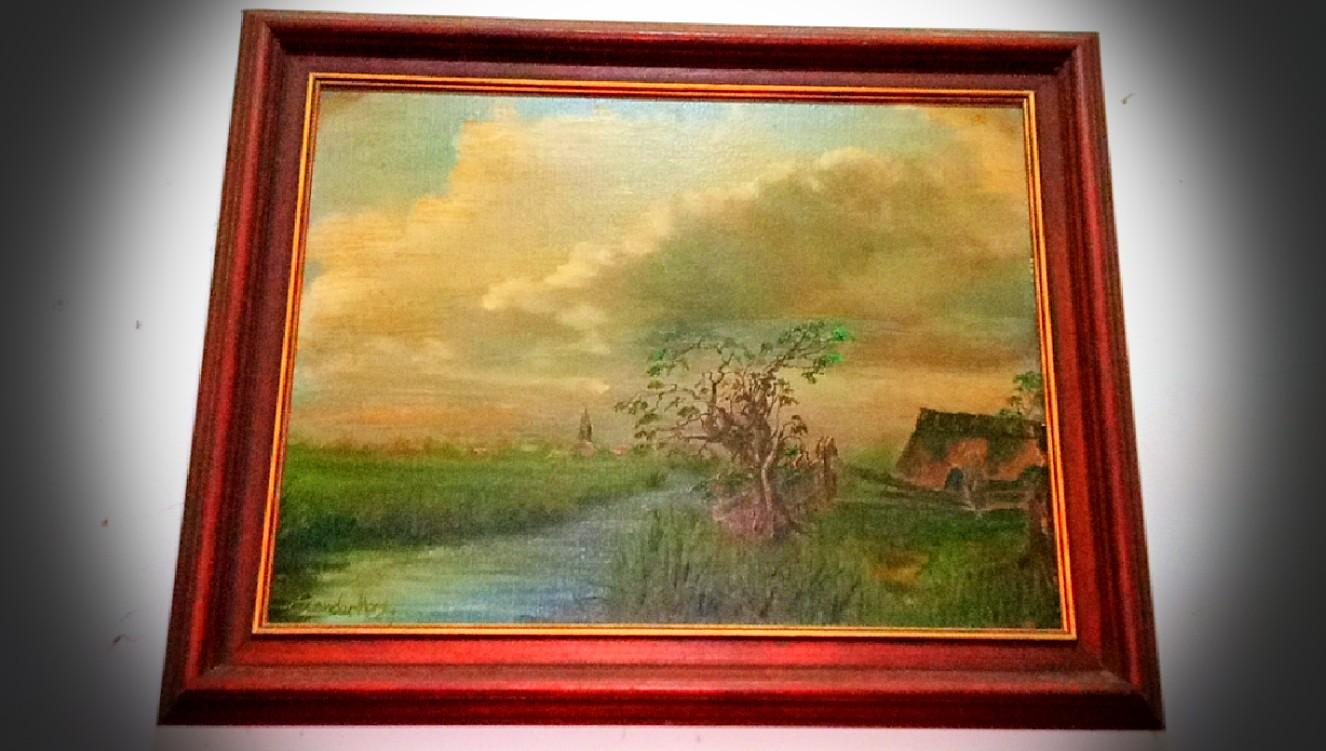lukisan: (166, 11, 1210, 744)
